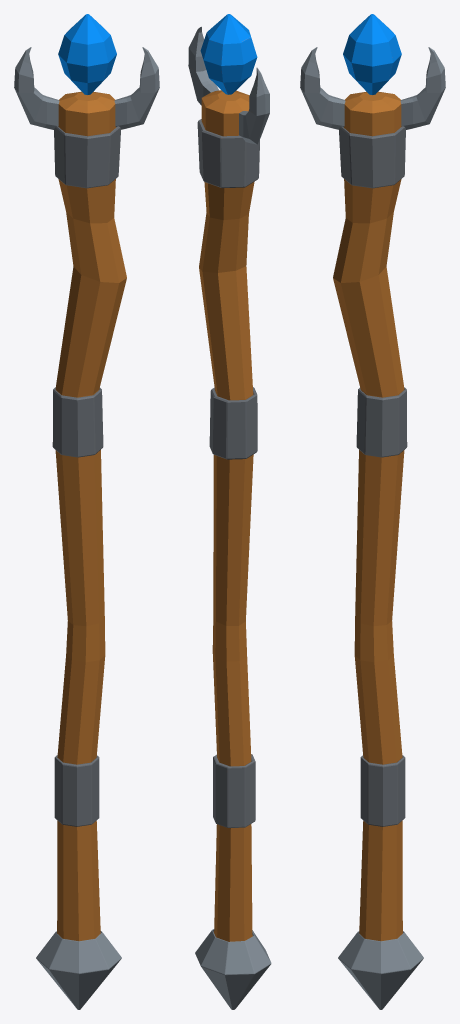
File: wizard_staff.glb
The picture shows the model from 3 angles, left to right: view 1: azimuth 90°, elevation 25°; view 2: azimuth 210°, elevation 25°; view 3: azimuth 270°, elevation 25°; orthographic projection.
Parts seen in each view (by area): view 1: shaft, pommel, upper_band, gem_stone, middle_band, lower_ band, left_horn, right_horn; view 2: shaft, pommel, gem_stone, upper_band, middle_band, lower_ band, left_horn, right_horn; view 3: shaft, pommel, upper_band, gem_stone, middle_band, lower_ band, left_horn, right_horn.
Part boxes in pixels (x1,y1,x2,y2): shaft: [55, 91, 126, 941]; pommel: [36, 931, 121, 1009]; upper_band: [54, 126, 120, 188]; gem_stone: [58, 14, 116, 94]; middle_band: [52, 387, 103, 457]; lower_ band: [54, 755, 99, 826]; left_horn: [14, 47, 59, 129]; right_horn: [114, 47, 159, 129]; shaft: [199, 90, 254, 941]; pommel: [195, 929, 271, 1009]; gem_stone: [200, 14, 257, 94]; upper_band: [197, 119, 259, 188]; middle_band: [209, 387, 257, 459]; lower_ band: [213, 754, 255, 827]; left_horn: [239, 67, 269, 144]; right_horn: [188, 26, 219, 105]; shaft: [333, 91, 404, 941]; pommel: [338, 931, 423, 1009]; upper_band: [339, 126, 405, 188]; gem_stone: [343, 14, 401, 94]; middle_band: [356, 387, 407, 457]; lower_ band: [360, 755, 405, 826]; left_horn: [400, 47, 445, 129]; right_horn: [300, 47, 345, 129].
Size of the model in its own units: 0.2758 by 4.03 by 0.5348.
1 material, 1 textured.
